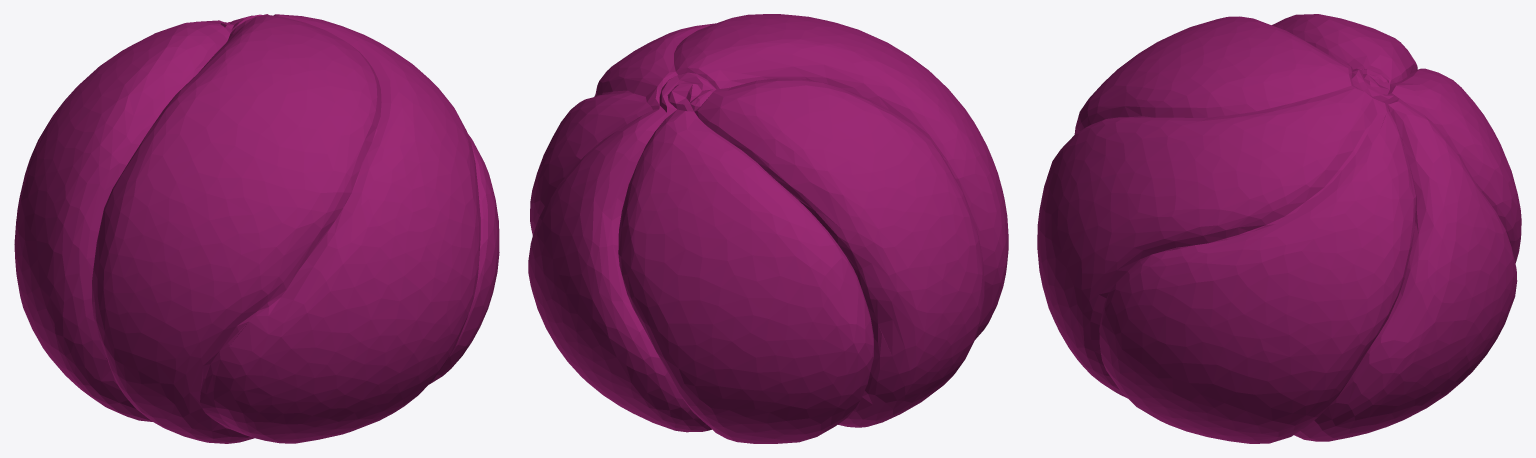
The model's file is Egg.fbx.
The picture shows the model from 3 angles, left to right: view 1: azimuth 30°, elevation 25°; view 2: azimuth 150°, elevation 25°; view 3: azimuth 270°, elevation 25°; orthographic projection.
Visible parts, largest first — view 1: egg; view 2: egg; view 3: egg.
Boxes of the visible parts, x1,y1,x2,y2 form: egg: (14, 14, 499, 443); egg: (528, 14, 1008, 443); egg: (1037, 14, 1521, 443).
Bounding box in the file's own units: 32.06 × 27.03 × 31.99.
